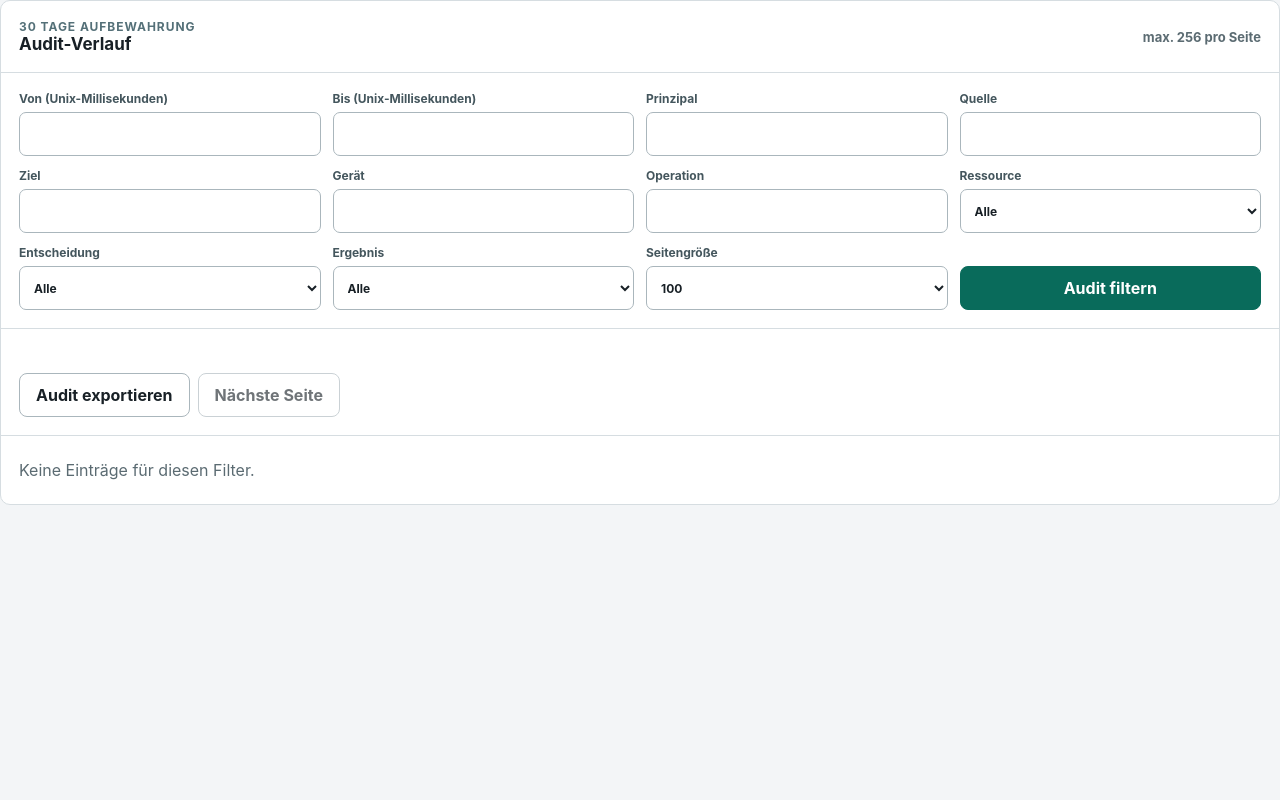
Test: AuditHistory › reports export signature truthfully
Click the button "Audit exportieren": (104, 395) [19,373,190,417]
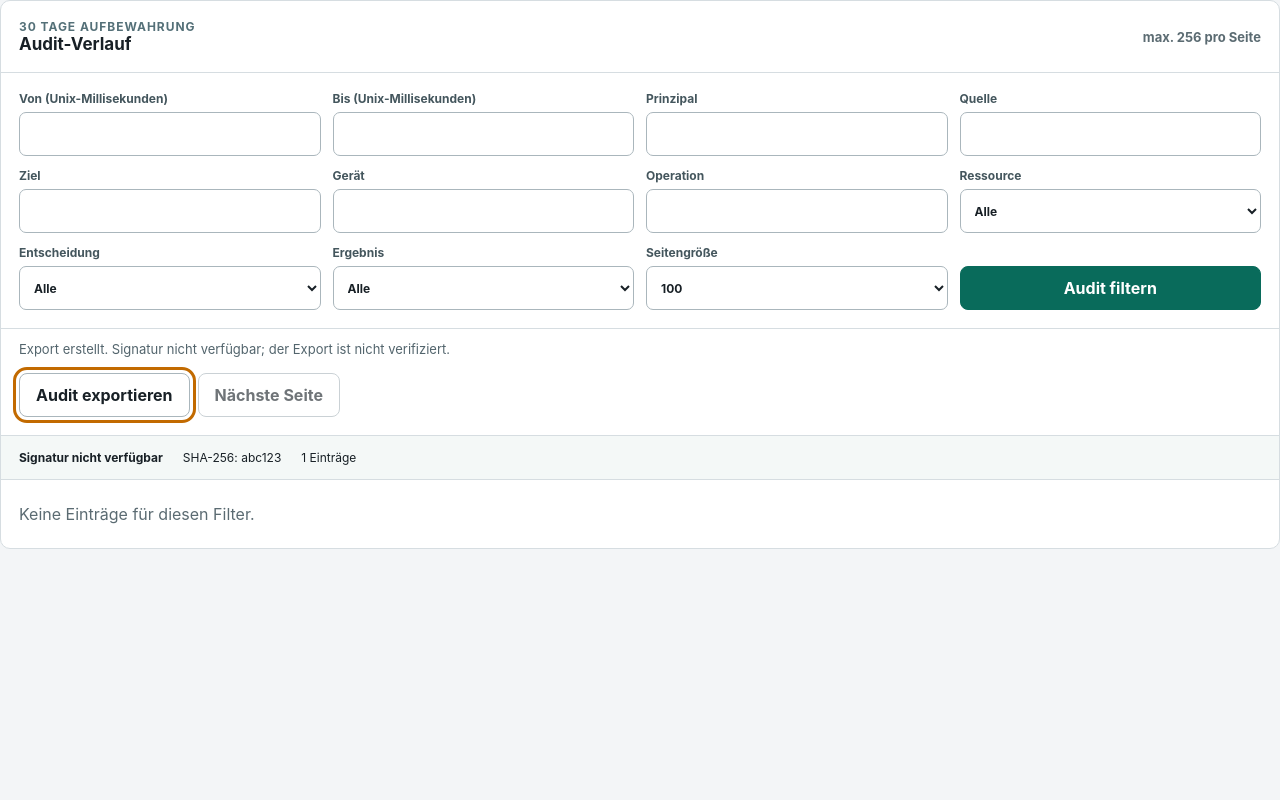
Result: the message shows "Signatur nicht verfügbar" at [19,341,450,357]
Result: the text "SHA-256: abc123" is shown at [183,450,281,465]
